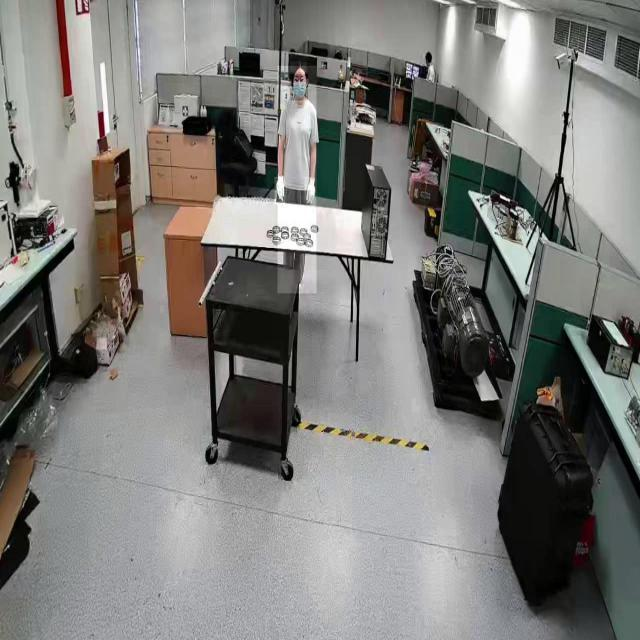gloves: (304, 177, 316, 207), (274, 177, 286, 206)
